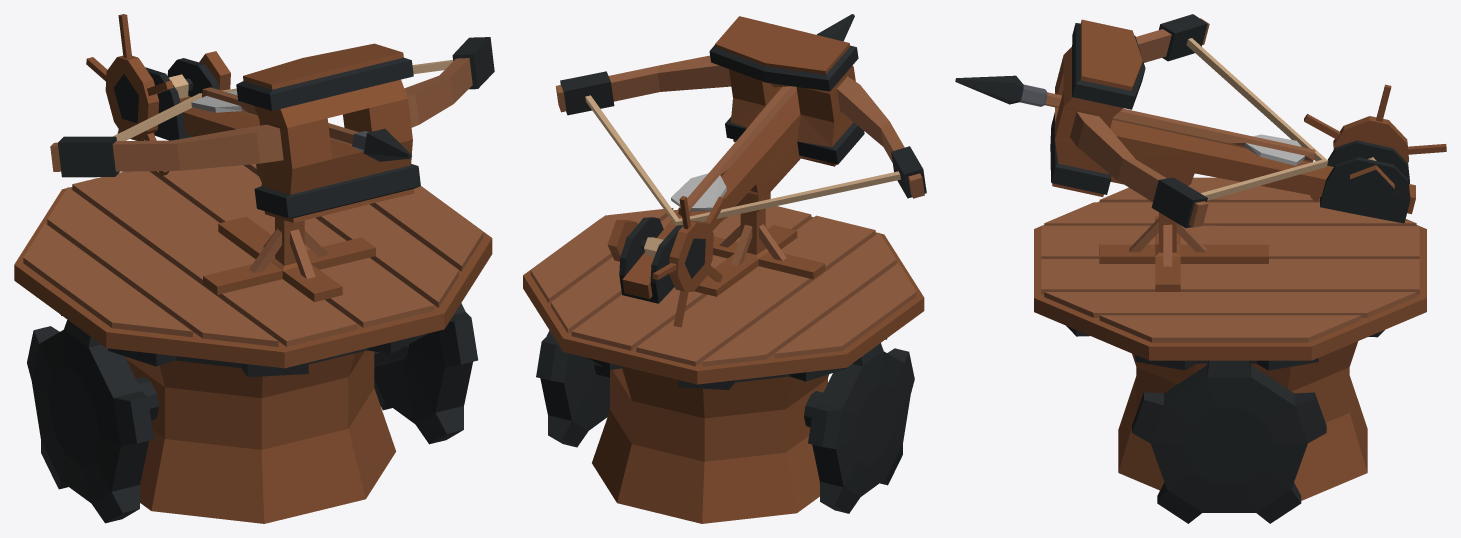
Rendered from Crossbow Level 1.FBX.
3 views of the same model, side by side, from view 1: azimuth 30°, elevation 25°; view 2: azimuth 150°, elevation 25°; view 3: azimuth 270°, elevation 25° (orthographic). The views are drawn at different scales.
Parts seen in each view (by area): view 1: Crossbow.001; view 2: Crossbow.001; view 3: Crossbow.001.
Boxes of the visible parts, x1=… form: Crossbow.001: x1=14, y1=14, x2=494, y2=523; Crossbow.001: x1=523, y1=14, x2=926, y2=523; Crossbow.001: x1=955, y1=14, x2=1446, y2=523.
Bounding box in the file's own units: 221 × 221 × 243.
1 material, 1 textured.
